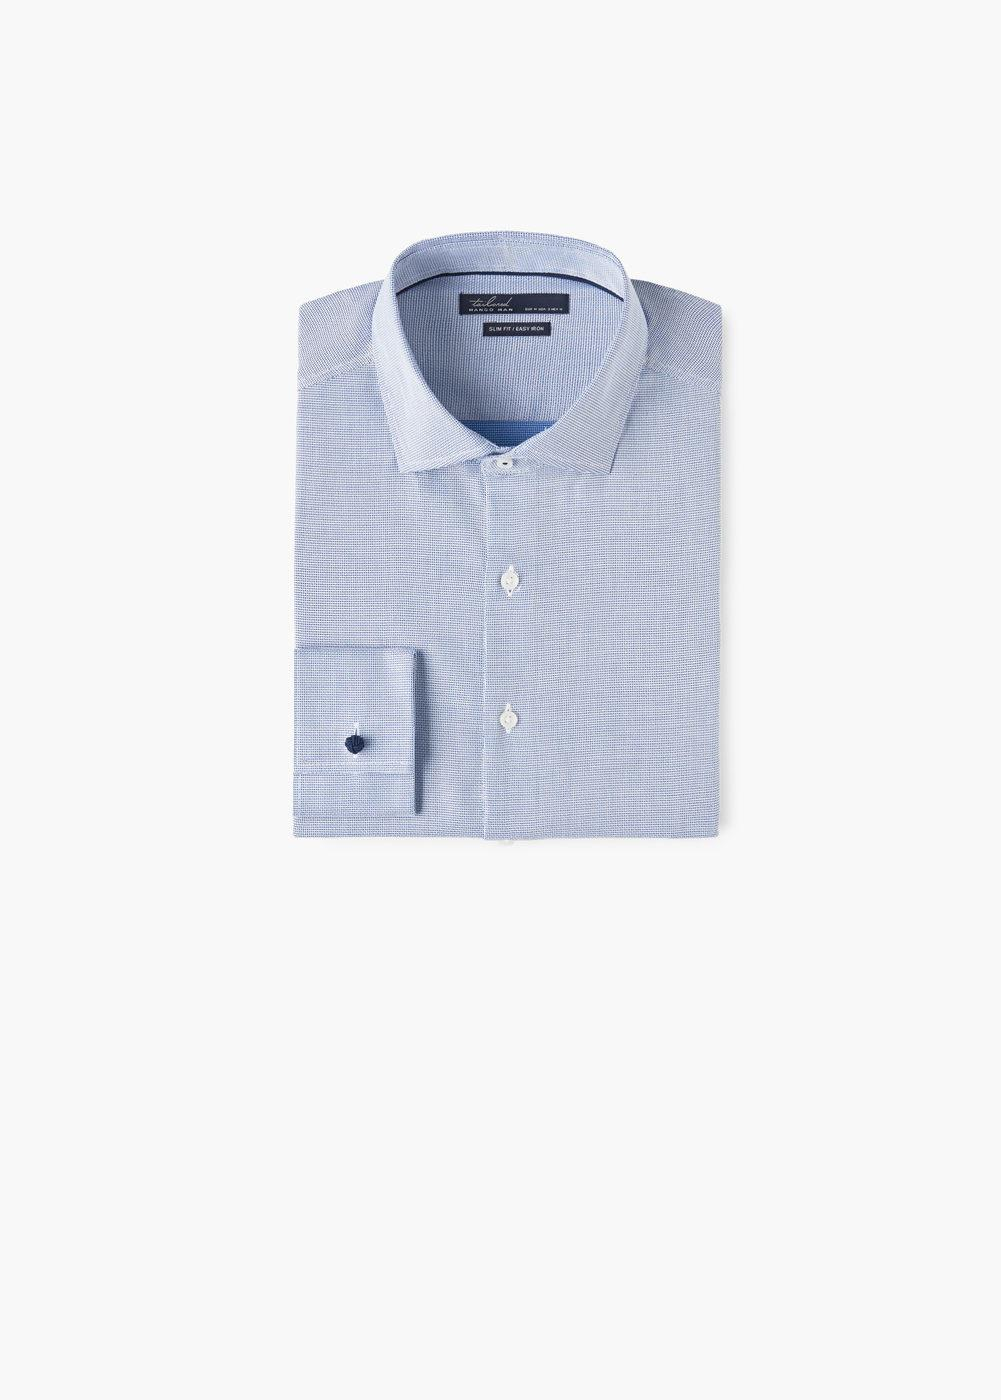teeshirt: (263, 225, 746, 863)
